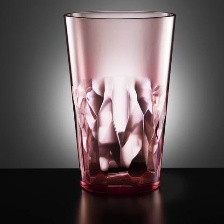glass: (58, 5, 180, 200)
